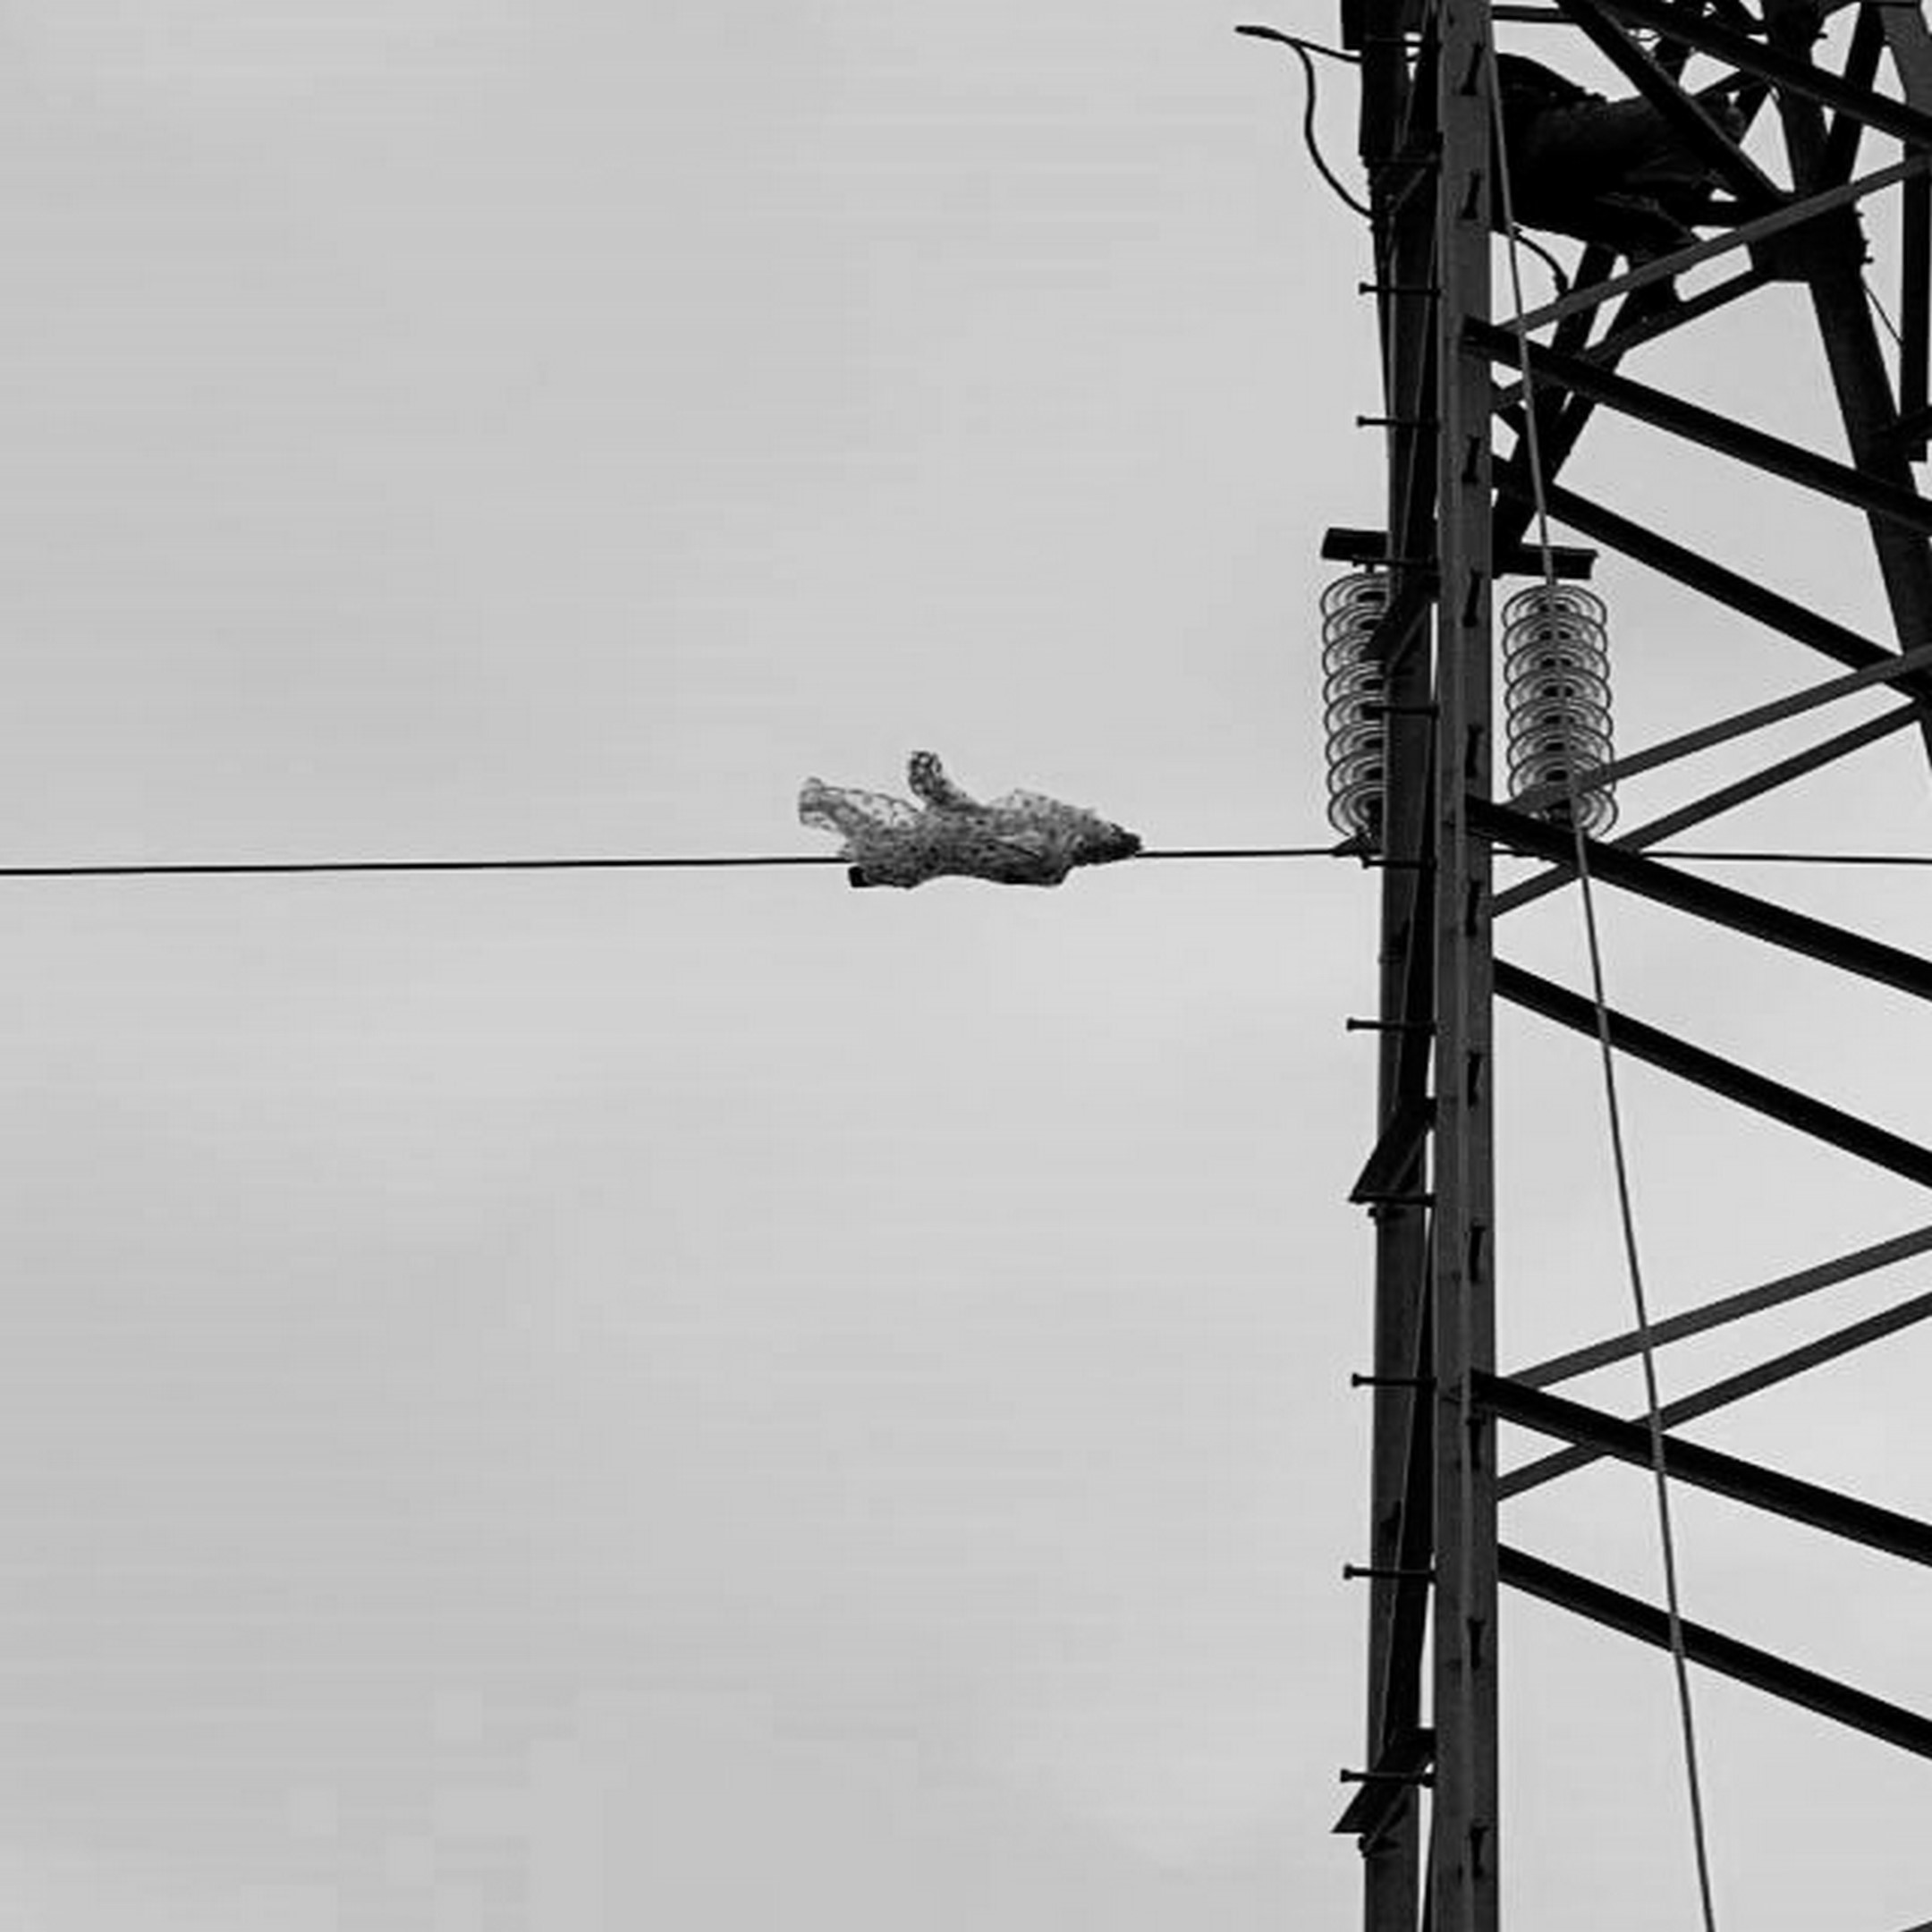wire foreign body: (782, 722, 1159, 938)
